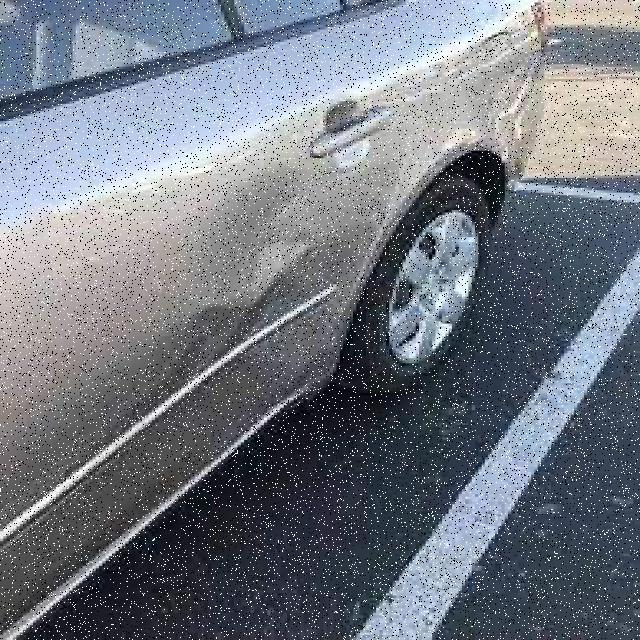doorouter-dent: (3, 59, 376, 492)
